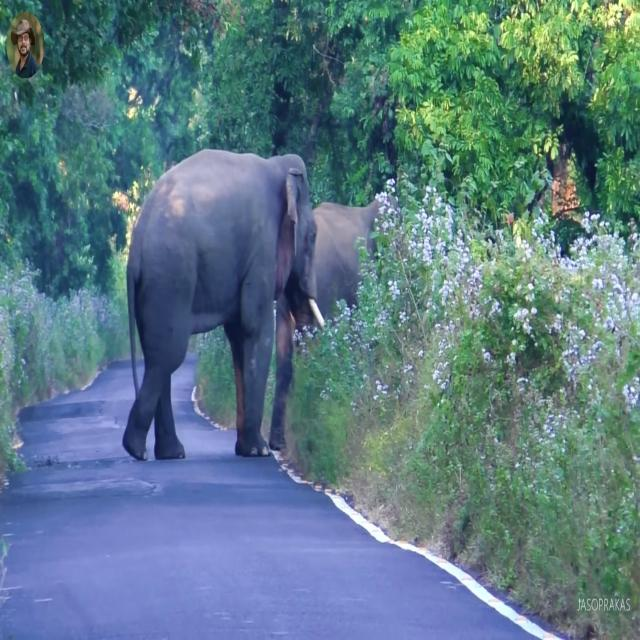Elephant: (122, 147, 326, 460)
person: (12, 18, 40, 79)
